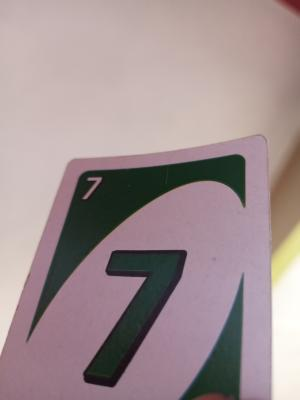green: (71, 170, 244, 392)
num_7: (81, 172, 105, 203)
